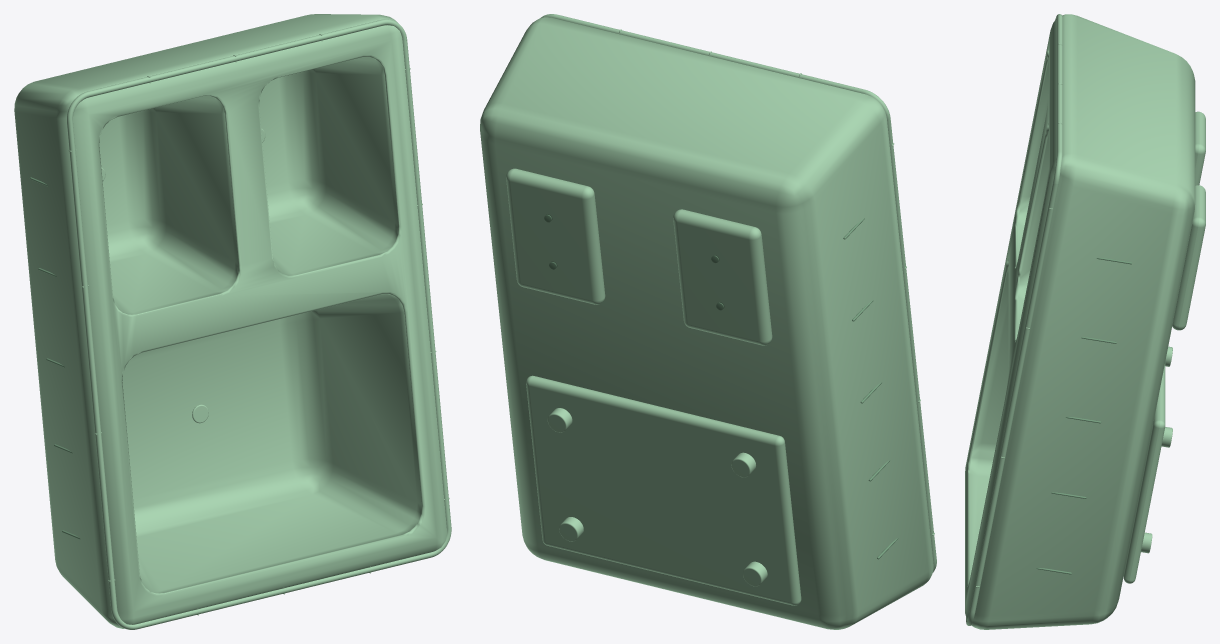
The model's file is lunchbox-tray-green.glb.
3 views of the same model, side by side, from view 1: azimuth 30°, elevation 25°; view 2: azimuth 150°, elevation 25°; view 3: azimuth 270°, elevation 25° (orthographic). The views are drawn at different scales.
Parts seen in each view (by area): view 1: lunchbox-tray-green-body, lunchbox-tray-green-rolled-outer-lip; view 2: lunchbox-tray-green-body, lunchbox-tray-green-underside-plate, lunchbox-tray-green-underside-pad--1, lunchbox-tray-green-underside-pad-1, lunchbox-tray-green-rolled-outer-lip; view 3: lunchbox-tray-green-body, lunchbox-tray-green-rolled-outer-lip, lunchbox-tray-green-underside-plate, lunchbox-tray-green-underside-pad-1, lunchbox-tray-green-underside-pad--1.
Part boxes in pixels (<box>): lunchbox-tray-green-body: <box>14,14,446,628</box>; lunchbox-tray-green-rolled-outer-lip: <box>67,19,451,629</box>; lunchbox-tray-green-body: <box>480,17,933,629</box>; lunchbox-tray-green-underside-plate: <box>526,375,801,605</box>; lunchbox-tray-green-underside-pad--1: <box>673,209,772,345</box>; lunchbox-tray-green-underside-pad-1: <box>506,168,605,304</box>; lunchbox-tray-green-rolled-outer-lip: <box>540,14,936,572</box>; lunchbox-tray-green-body: <box>965,14,1195,629</box>; lunchbox-tray-green-rolled-outer-lip: <box>966,14,1062,625</box>; lunchbox-tray-green-underside-plate: <box>1123,363,1165,583</box>; lunchbox-tray-green-underside-pad-1: <box>1172,185,1205,330</box>; lunchbox-tray-green-underside-pad--1: <box>1195,111,1205,185</box>.
Bounding box in the file's own units: 1.67 × 2.36 × 1.08.
